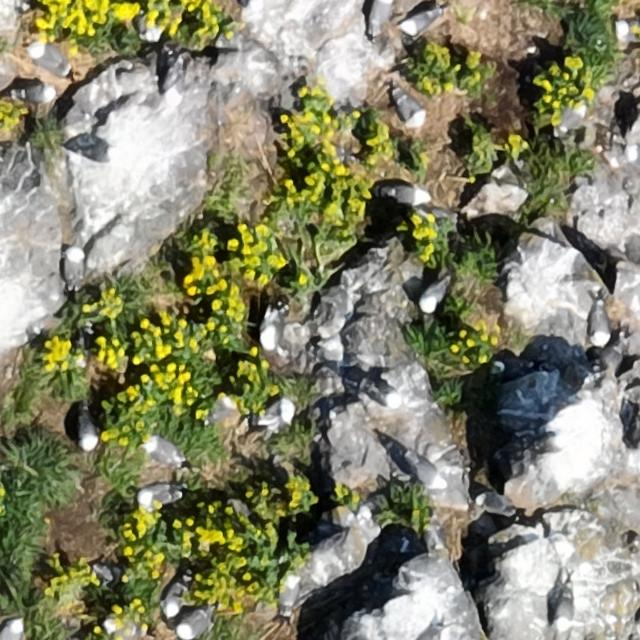umineko: (403, 446, 452, 493), (274, 573, 302, 627), (360, 376, 401, 408), (554, 575, 575, 635), (392, 90, 425, 128), (554, 104, 592, 136), (262, 396, 296, 430), (382, 182, 432, 205), (164, 62, 190, 106), (261, 304, 284, 352), (145, 438, 183, 465), (32, 46, 68, 74), (176, 609, 211, 637), (474, 493, 516, 516), (163, 578, 187, 618), (138, 483, 176, 506), (592, 299, 610, 347), (369, 0, 393, 34), (421, 281, 446, 313), (401, 11, 436, 33), (77, 414, 97, 451), (78, 144, 119, 162), (63, 250, 81, 285), (19, 85, 53, 103), (1, 618, 24, 640), (617, 21, 637, 42)
